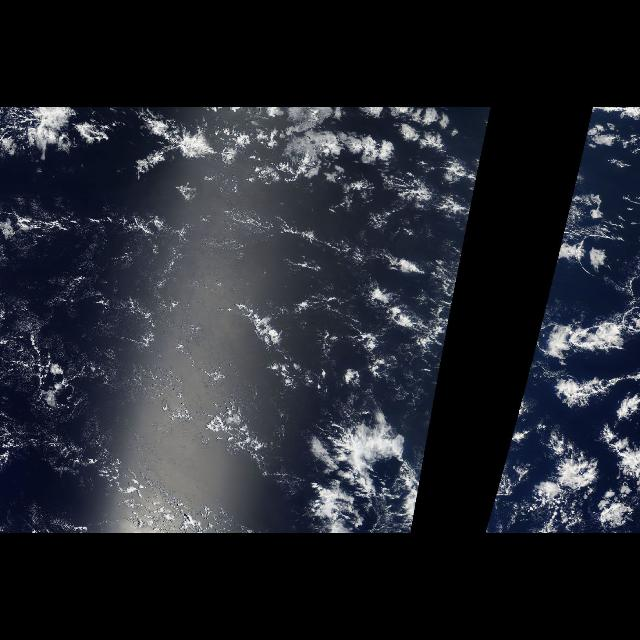Flower: (280, 111, 492, 412), (517, 111, 629, 412)
Sugar: (5, 194, 164, 476)
